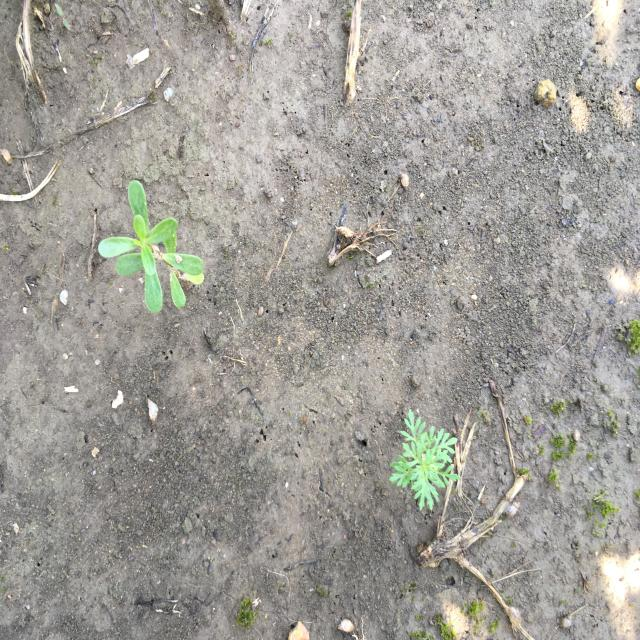Purslane: (97, 180, 205, 315)
Ragweed: (387, 406, 465, 514)
